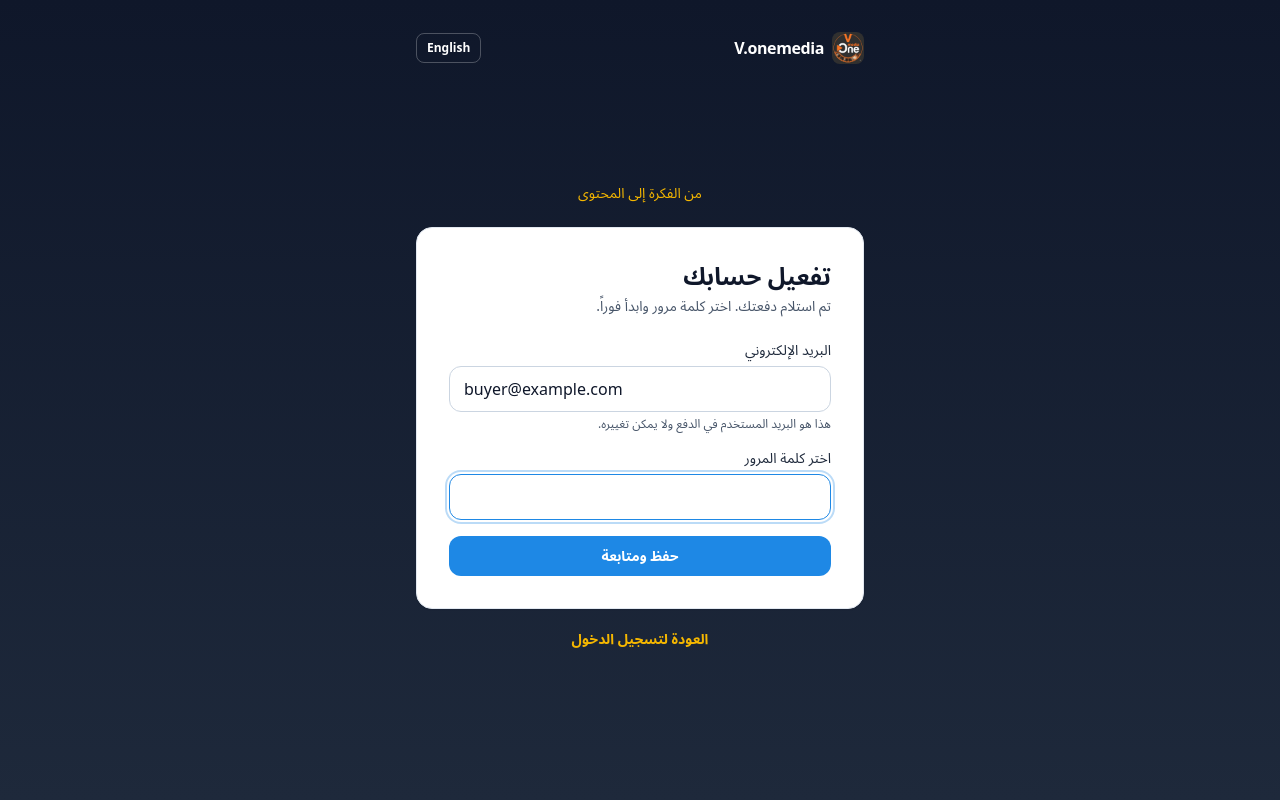
Test case: activation form › surfaces the conflict when an account already exists for that address
In the password field labelled "اختر كلمة المرور": (640, 497) [449,474,831,520], type "ChosenAtCheckout123"
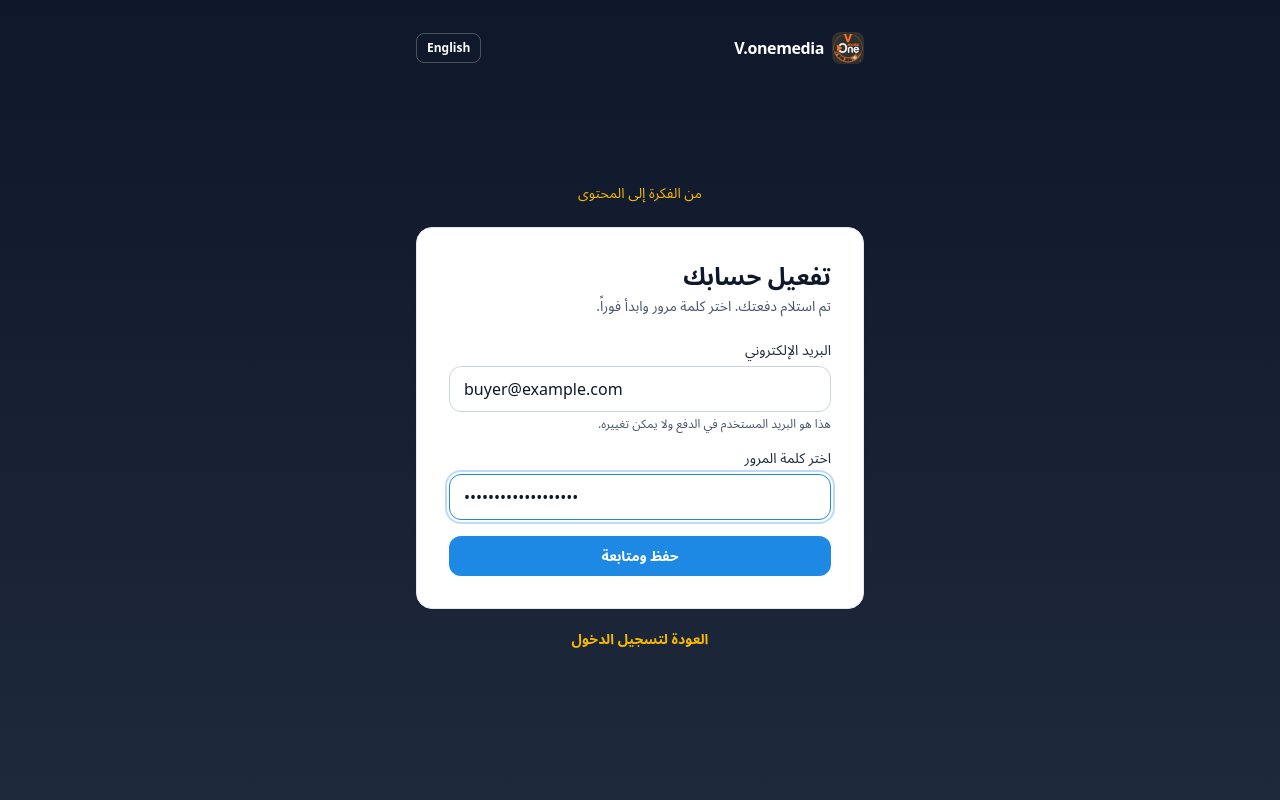
Click the button "حفظ ومتابعة": (640, 556) [449,536,831,576]
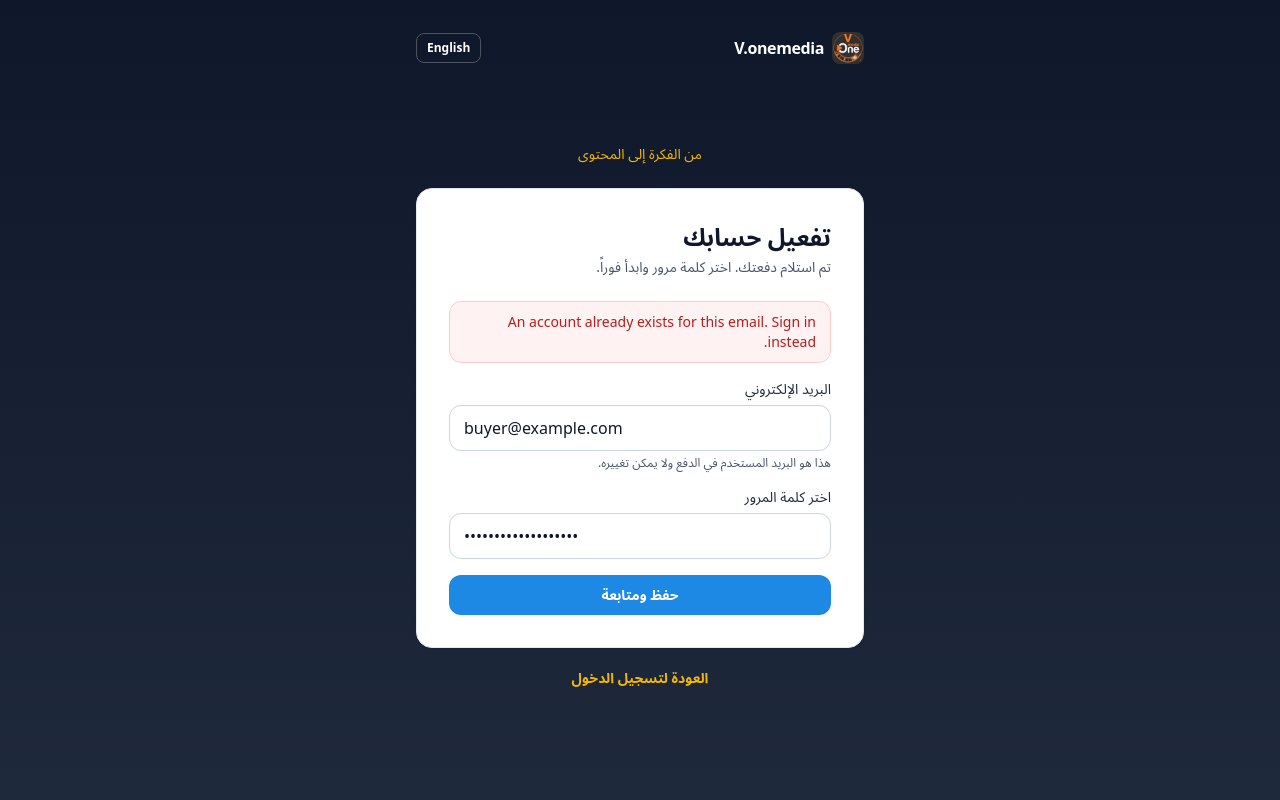
Result: the message shows "already exists" at [508,312,816,351]
